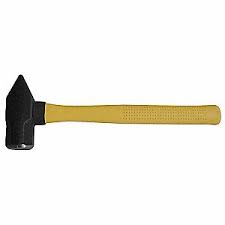hammer: (5, 73, 221, 150)
